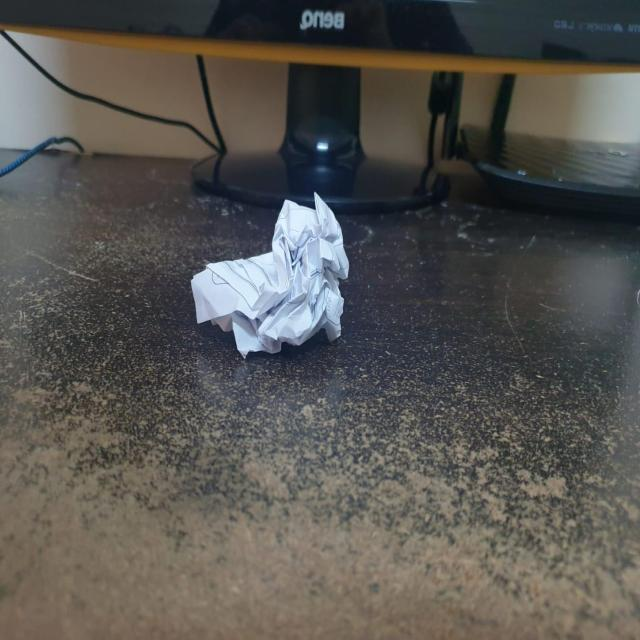kertas: (180, 190, 354, 360)
